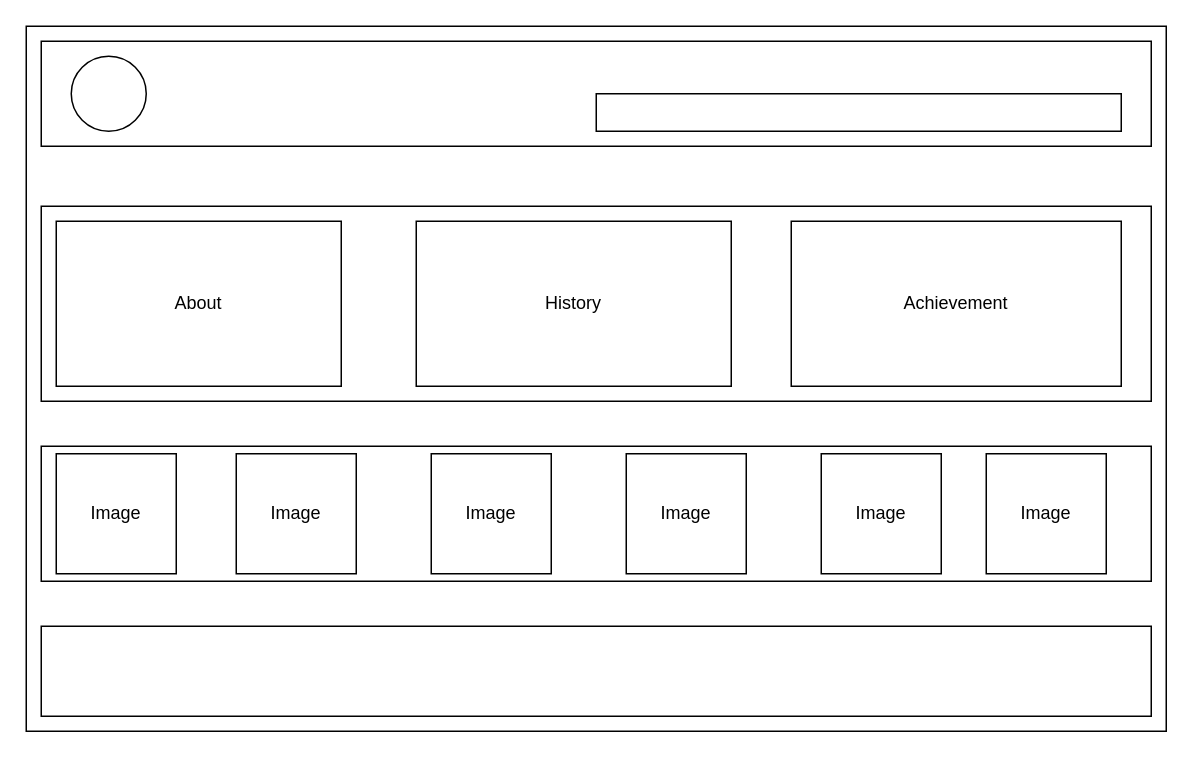
Some shapes in this 1193 by 758 pixel diagram are drawn without their labels. Here are the shapes that lost their labels. From the top down, the box of each, then its label:
(70, 55, 146, 131): Logo
(595, 92, 1121, 131): Navigation Buttons
(40, 625, 1151, 716): Footer
